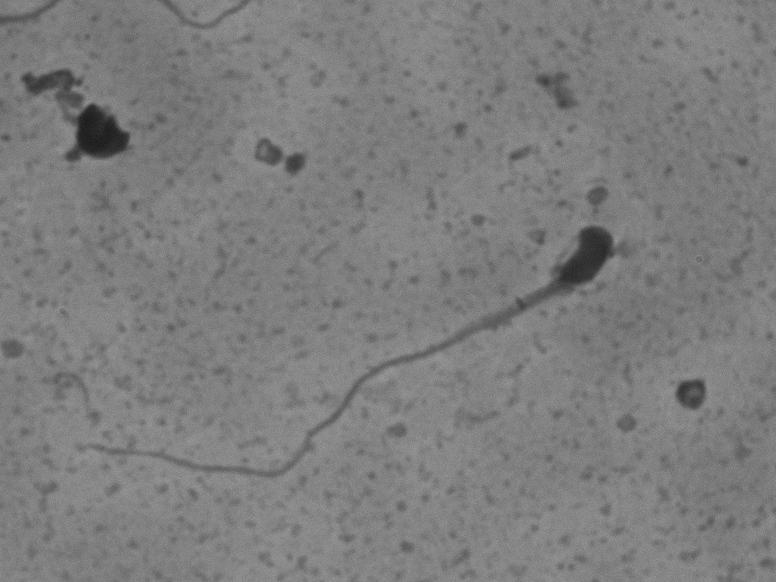Abnormal: (62, 170, 627, 502)
